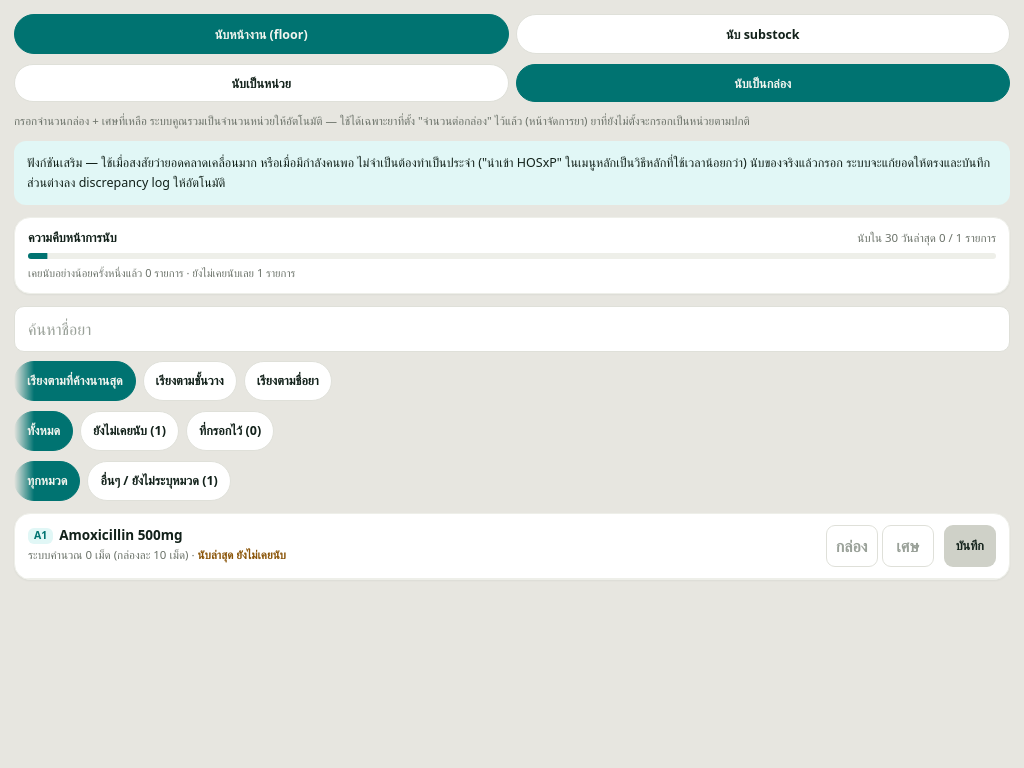
Scenario: CountScreen — box-counting regression › multiplies กล่อง+เศษ into the same total the unit input would have needed, for a med with packSize set
This screenshot has width=1024, height=768.
Click the button "นับเป็นกล่อง": {"x": 763, "y": 83} [516, 64, 1010, 102]
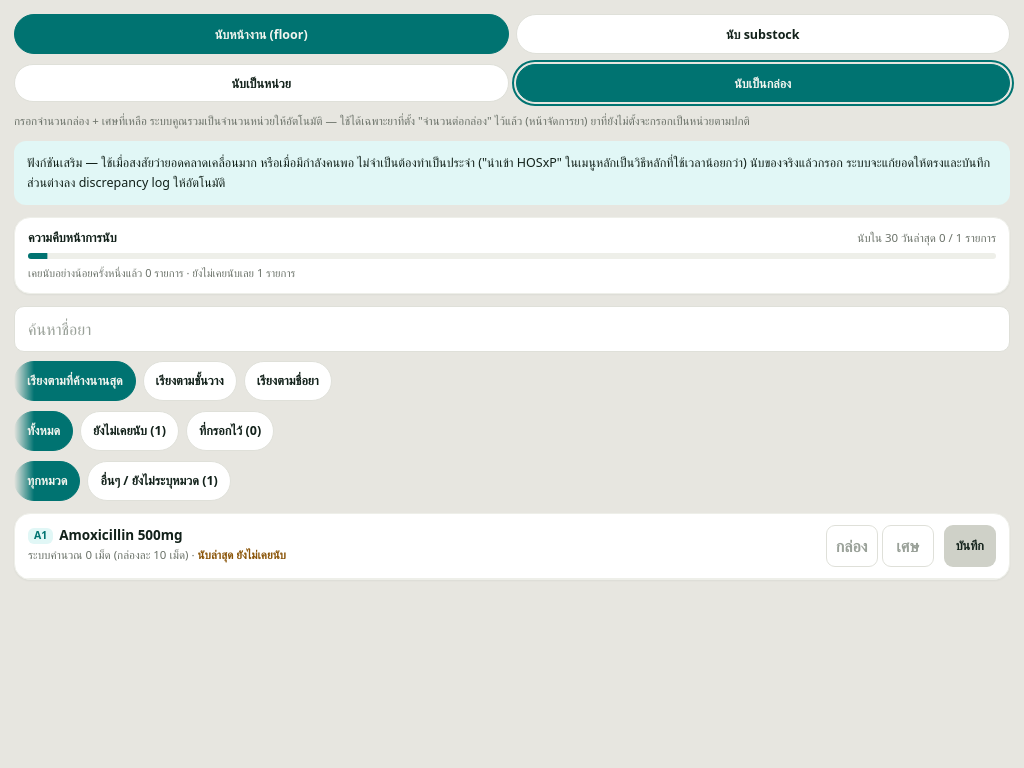
In the field with placeholder "กล่อง": {"x": 852, "y": 546} [826, 525, 878, 567], type "2"
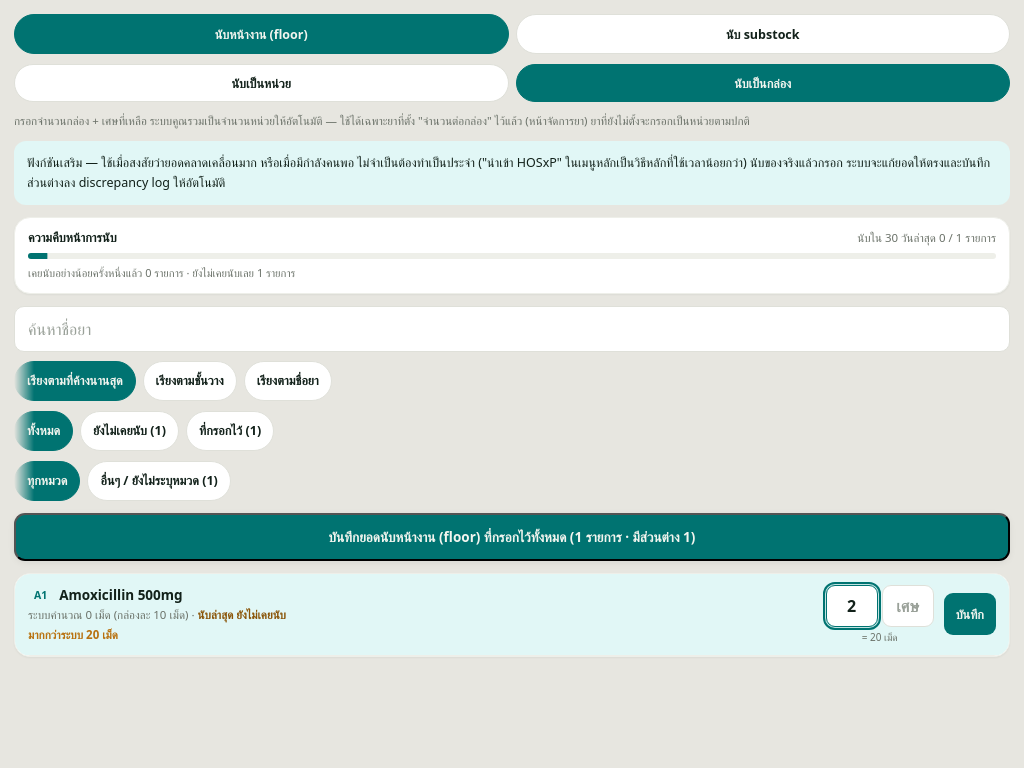
In the field with placeholder "เศษ": {"x": 908, "y": 606} [882, 585, 934, 627], type "5"
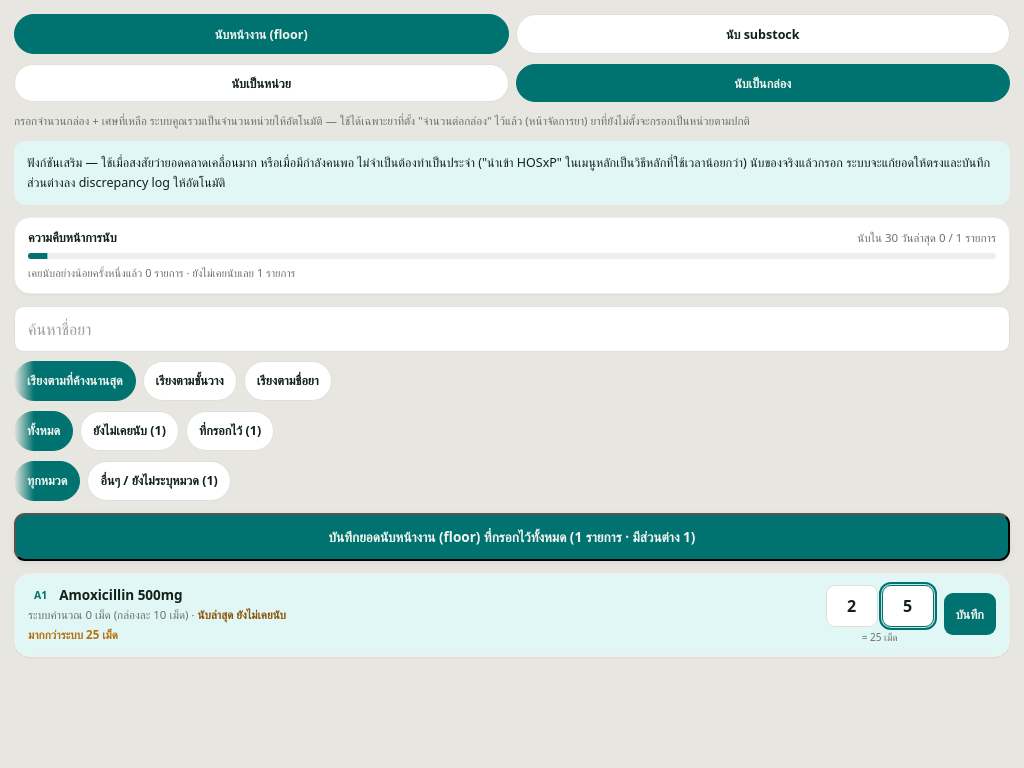
Expected: the text "= 25 เม็ด" is shown, [862, 630, 898, 644]
Expected: the text "มากกว่าระบบ 25 เม็ด" is shown, [28, 626, 118, 642]
